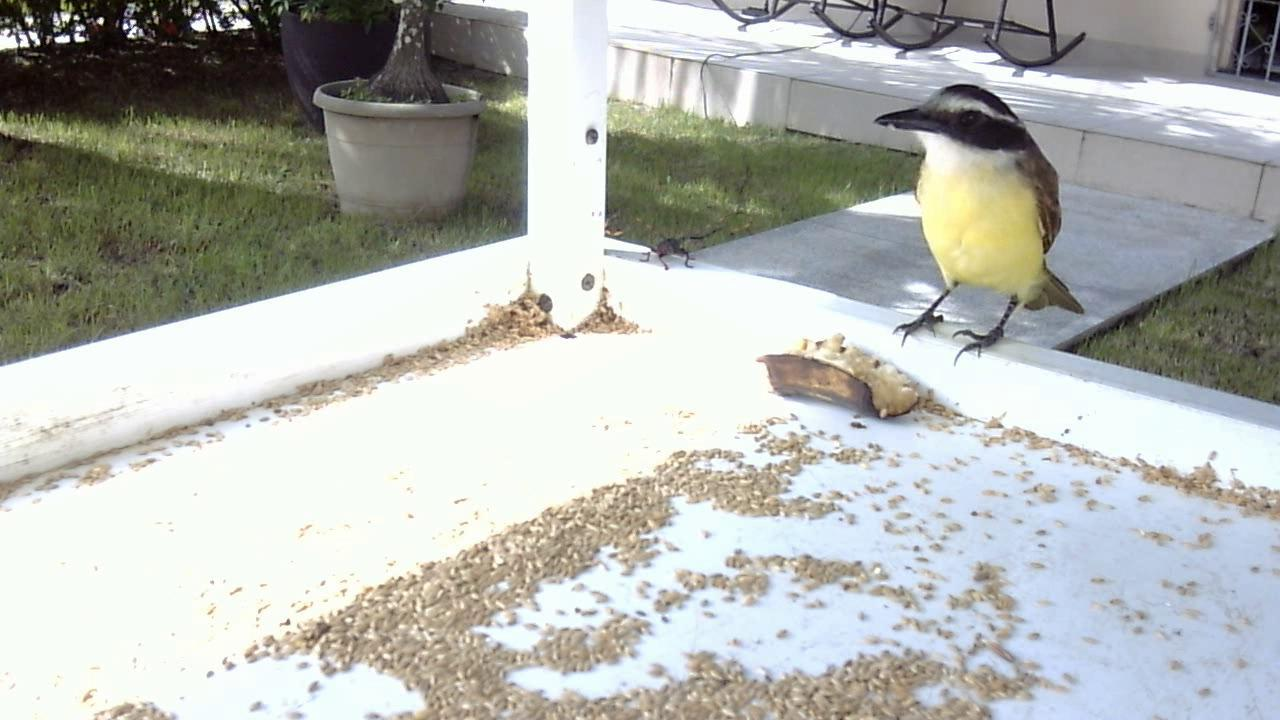bem_te_vi: (855, 72, 1100, 379)
